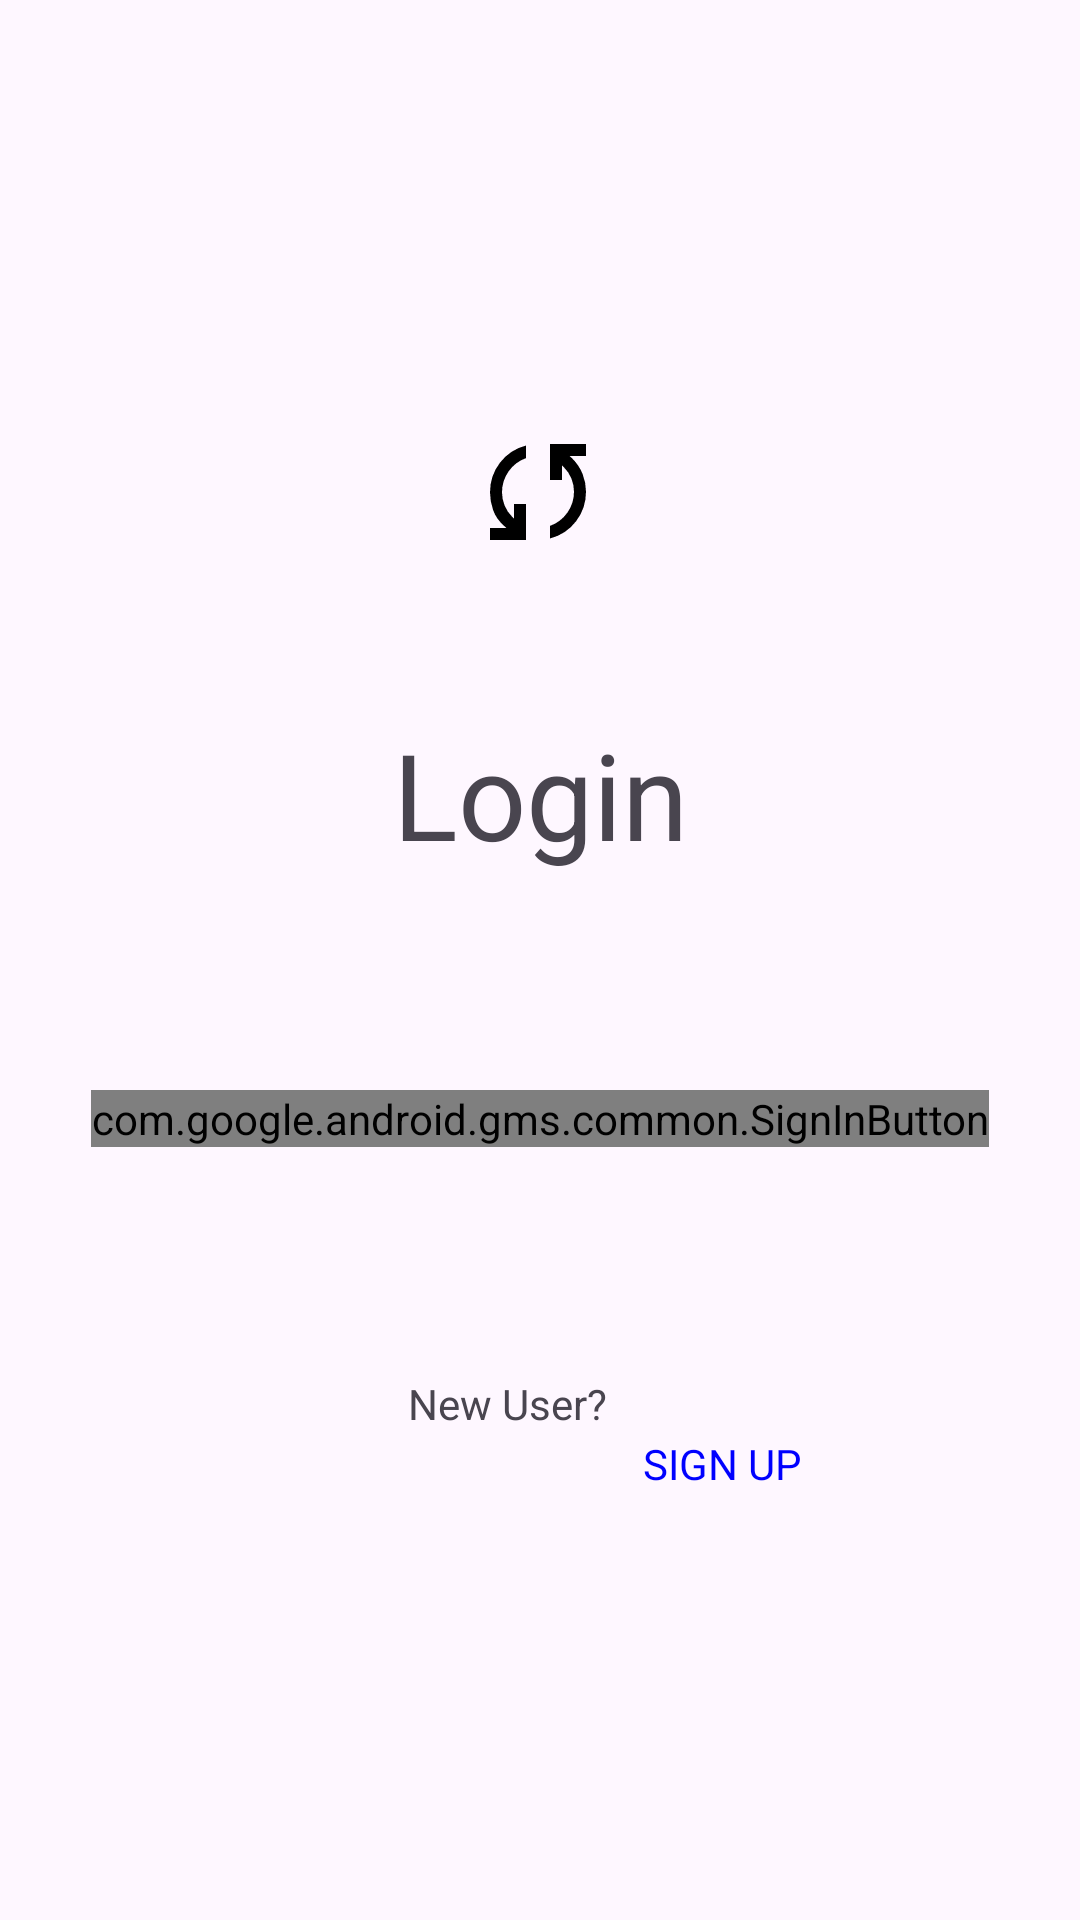

Icon bounding boxes for this 1080 × 1920 phone screenshot, format [x1, y1, x2, y2]:
sync: [490, 444, 586, 540]
